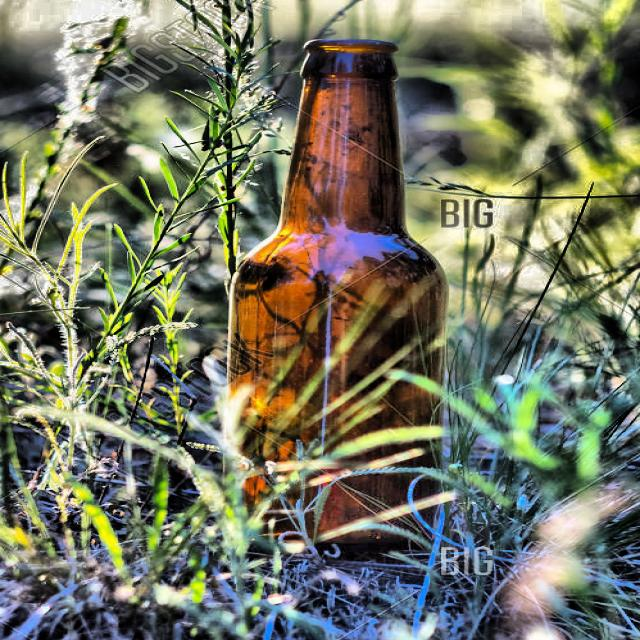glass: (222, 32, 450, 557)
